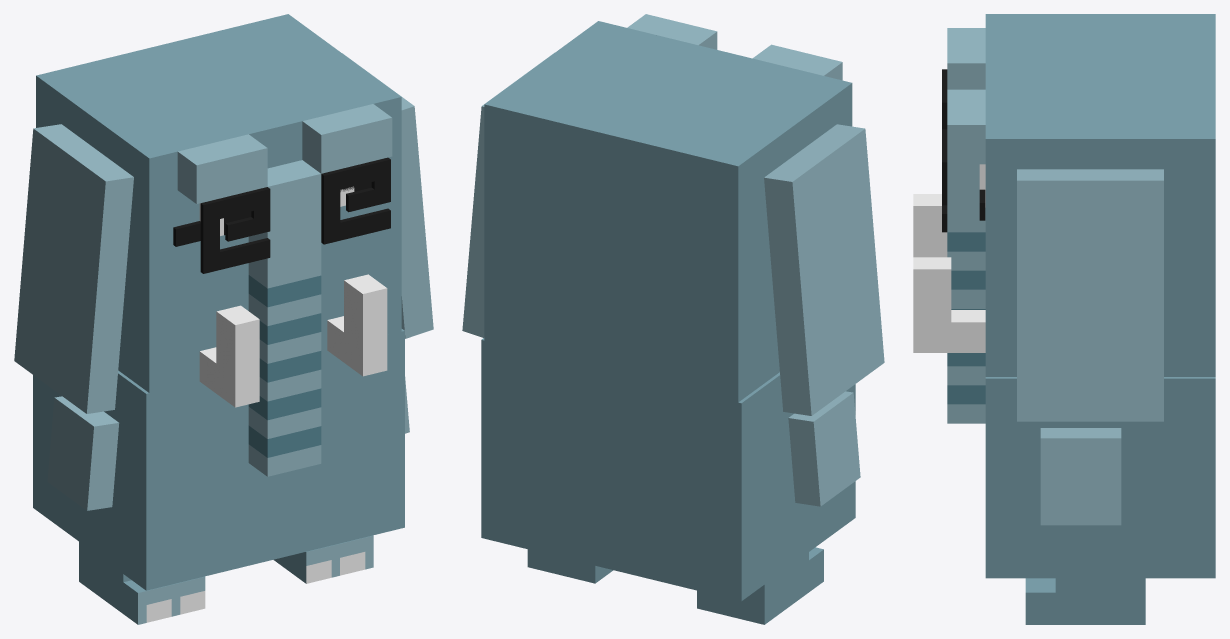
The picture shows the model from 3 angles, left to right: view 1: azimuth 30°, elevation 25°; view 2: azimuth 150°, elevation 25°; view 3: azimuth 270°, elevation 25°; orthographic projection.
Visible parts, largest first — view 1: Ch_41_Head, Ch_41, Ch_41_Ear_L, Ch_41_Nose, Ch_41_Hand_L, Ch_41_Ear_R, Ch_41_Leg_L, Ch_41_Eye_03_L, Ch_41_Eye_03_R, Ch_41_Leg_R, Ch_41_Eye_02; view 2: Ch_41_Head, Ch_41, Ch_41_Ear_L, Ch_41_Hand_L, Ch_41_Leg_L, Ch_41_Ear_R, Ch_41_Leg_R; view 3: Ch_41_Head, Ch_41_Ear_R, Ch_41, Ch_41_Hand_R, Ch_41_Leg_R, Ch_41_Nose, Ch_41_Eye_03_R.
Boxes of the visible parts, x1,y1,x2,y2 form: Ch_41_Head: (36,14,401,407); Ch_41: (33,329,404,590); Ch_41_Ear_L: (14,124,133,413); Ch_41_Nose: (248,369,321,476); Ch_41_Hand_L: (47,396,119,510); Ch_41_Ear_R: (342,53,433,338); Ch_41_Leg_L: (79,542,205,624); Ch_41_Eye_03_L: (200,187,270,273); Ch_41_Eye_03_R: (321,157,390,244); Ch_41_Leg_R: (273,535,373,583); Ch_41_Eye_02: (173,182,371,246); Ch_41_Head: (484,14,852,402); Ch_41: (481,338,855,601); Ch_41_Ear_L: (764,124,884,415); Ch_41_Hand_L: (788,391,860,506); Ch_41_Leg_L: (697,547,823,624); Ch_41_Ear_R: (462,53,553,337); Ch_41_Leg_R: (527,549,613,583); Ch_41_Head: (913,14,1215,376); Ch_41_Ear_R: (1017,169,1163,421); Ch_41: (985,377,1215,578); Ch_41_Hand_R: (1040,428,1121,525); Ch_41_Leg_R: (1025,578,1145,624); Ch_41_Nose: (947,353,985,423); Ch_41_Eye_03_R: (942,129,947,232).
Size of the model in its own units: 8.66 by 11.52 by 6.44.
